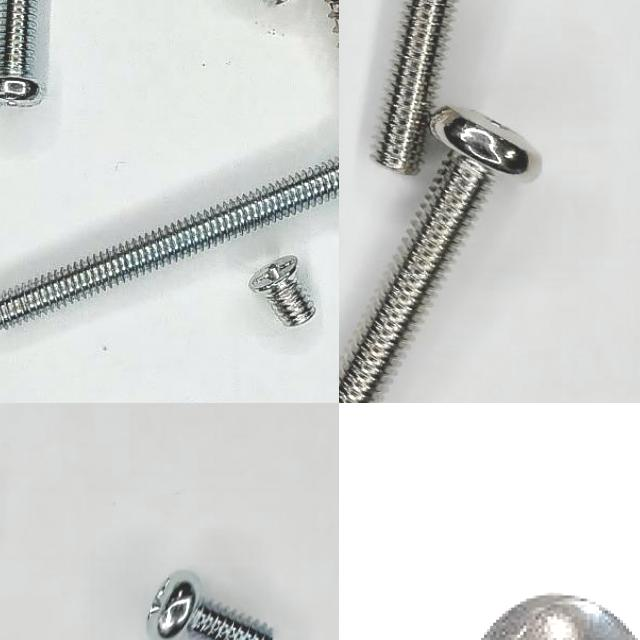Screw: (339, 107, 542, 403), (0, 158, 339, 330), (375, 0, 457, 175), (148, 571, 273, 640), (250, 256, 316, 328), (0, 0, 43, 106)
